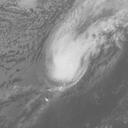cyclone: (37, 1, 103, 92)
